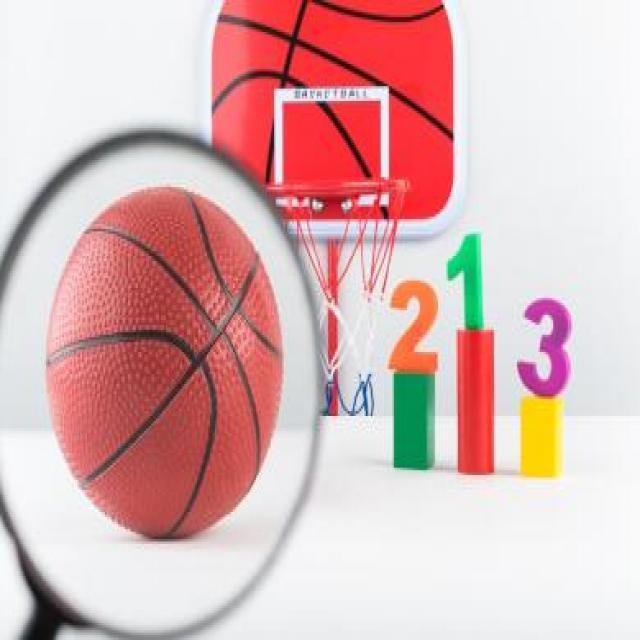rim: (46, 190, 290, 544)
